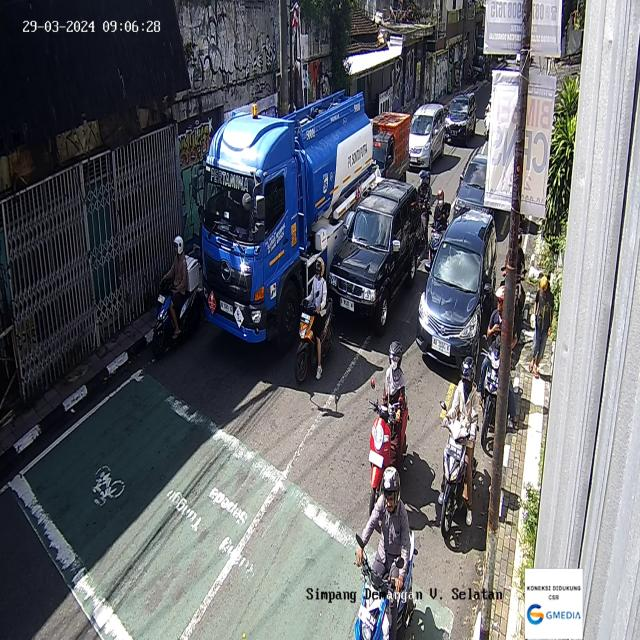car: (327, 178, 418, 334), (416, 208, 497, 370), (457, 154, 501, 224), (408, 102, 445, 171), (446, 94, 476, 137)
motorcycle: (353, 468, 417, 639), (368, 341, 409, 517), (437, 360, 477, 538), (476, 283, 519, 442), (150, 229, 205, 350), (294, 256, 334, 385), (499, 229, 526, 325), (426, 185, 451, 272), (414, 165, 433, 237)
truck: (198, 88, 378, 352), (369, 110, 410, 182)
